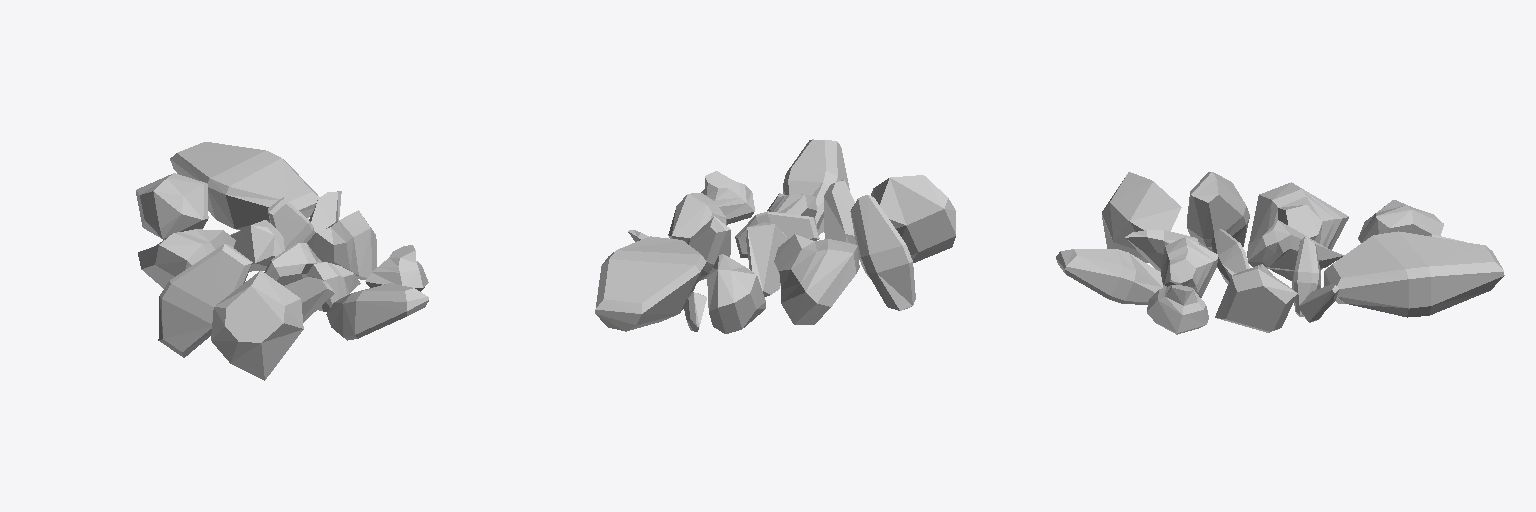
Rendered from rocks3.obj.
The picture shows the model from 3 angles: view 1: azimuth 30°, elevation 25°; view 2: azimuth 150°, elevation 25°; view 3: azimuth 270°, elevation 25°; orthographic projection.
Parts seen in each view (by area): view 1: Rocks03_Untitled.005; view 2: Rocks03_Untitled.005; view 3: Rocks03_Untitled.005.
Boxes of the visible parts, x1=… form: Rocks03_Untitled.005: x1=136, y1=142, x2=428, y2=380; Rocks03_Untitled.005: x1=595, y1=139, x2=955, y2=333; Rocks03_Untitled.005: x1=1056, y1=172, x2=1504, y2=334.
Size of the model in its own units: 4.75 by 1.97 by 7.62.